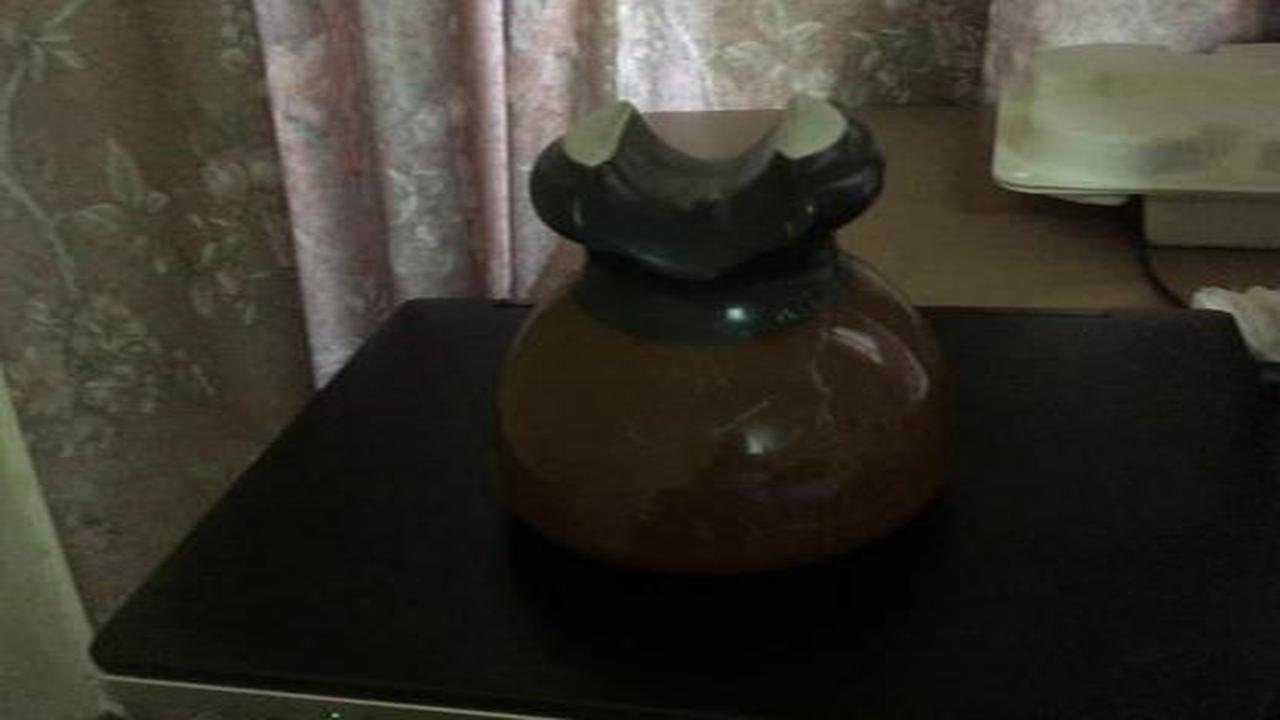insulator_pin: (450, 83, 1004, 591)
